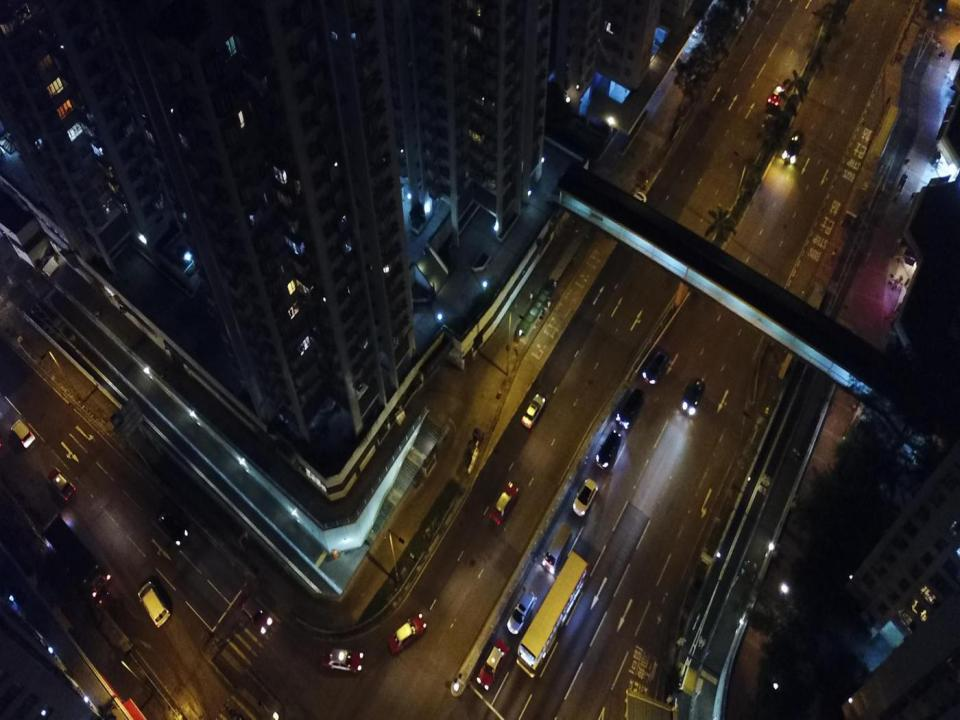bus: (515, 551, 589, 680)
car: (386, 611, 427, 654), (477, 638, 510, 691), (137, 579, 171, 629), (506, 588, 536, 637), (155, 507, 189, 547), (489, 480, 519, 524), (615, 386, 645, 430), (241, 597, 273, 636), (320, 646, 364, 674), (641, 347, 671, 386), (46, 466, 77, 503), (595, 428, 622, 470), (573, 477, 599, 517), (681, 375, 706, 414), (520, 392, 546, 429), (10, 417, 36, 450), (782, 129, 805, 165), (766, 82, 786, 112), (628, 190, 648, 215)
truck: (43, 514, 111, 600)
van: (541, 522, 573, 574)
